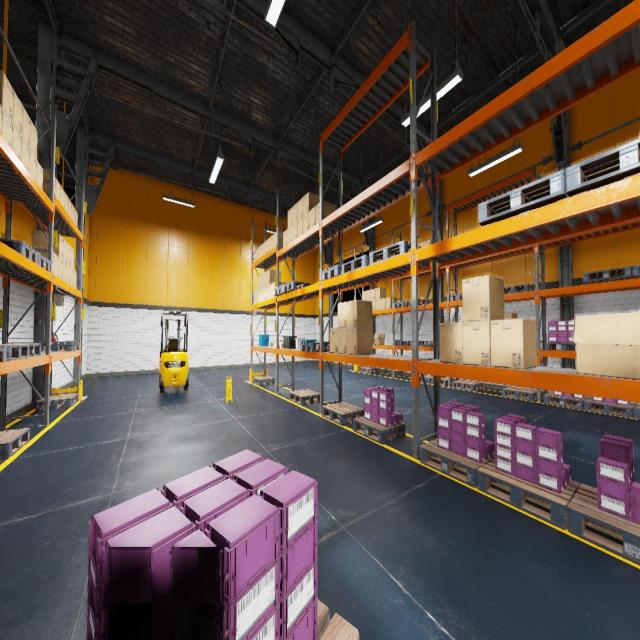box: (572, 312, 640, 380), (490, 318, 537, 369), (462, 274, 504, 322), (462, 320, 491, 366), (439, 322, 463, 364), (32, 229, 64, 260), (0, 70, 13, 122), (347, 300, 372, 327), (347, 327, 372, 354), (30, 246, 54, 274), (316, 200, 336, 224), (1, 108, 12, 149), (13, 90, 22, 136), (303, 191, 319, 216), (42, 168, 56, 194), (22, 105, 30, 149), (12, 124, 21, 160), (21, 138, 30, 172), (30, 120, 37, 159), (29, 150, 37, 181), (266, 269, 281, 285), (338, 328, 347, 353), (274, 281, 288, 297), (338, 302, 346, 328), (36, 160, 43, 189), (330, 328, 338, 353), (385, 297, 397, 309), (309, 206, 315, 229), (303, 211, 309, 233), (297, 198, 303, 220), (375, 287, 386, 299), (274, 231, 282, 247), (297, 216, 303, 237), (54, 253, 59, 277), (292, 202, 297, 225), (55, 179, 60, 201), (374, 334, 385, 344), (64, 239, 68, 263), (292, 221, 297, 240), (287, 225, 292, 244), (59, 257, 63, 280), (67, 243, 71, 266), (504, 312, 517, 319), (60, 186, 64, 208), (62, 261, 66, 282), (64, 194, 68, 214), (288, 208, 292, 228), (70, 267, 74, 286), (283, 229, 287, 247), (380, 298, 386, 310), (74, 210, 78, 227), (71, 246, 74, 268), (266, 284, 270, 300), (0, 104, 2, 134), (67, 264, 70, 284), (266, 237, 270, 252), (68, 199, 71, 218), (260, 243, 264, 257), (424, 239, 432, 246), (375, 299, 380, 310), (270, 234, 273, 250), (263, 271, 266, 287), (371, 288, 375, 300), (270, 283, 273, 298), (260, 273, 263, 288), (257, 275, 260, 290), (263, 286, 266, 300), (260, 288, 263, 302), (371, 300, 375, 310), (366, 290, 370, 300), (362, 290, 366, 300), (257, 289, 260, 302), (72, 204, 74, 223), (74, 270, 76, 288), (274, 342, 281, 347), (268, 342, 274, 347), (264, 240, 266, 254), (258, 245, 260, 259), (255, 248, 257, 261), (255, 290, 257, 303), (418, 242, 423, 247), (275, 339, 283, 342), (279, 343, 284, 347), (274, 342, 275, 346)
forklift: (159, 311, 188, 392)
pallets: (477, 458, 580, 529), (567, 484, 640, 565), (478, 170, 572, 226), (565, 138, 640, 196), (420, 438, 494, 488), (318, 599, 360, 640), (353, 415, 405, 444), (369, 240, 421, 264), (584, 398, 635, 418), (0, 238, 38, 264), (322, 402, 364, 425), (0, 428, 30, 460), (583, 266, 634, 284), (543, 392, 588, 410), (35, 393, 79, 411), (502, 386, 537, 402), (0, 343, 41, 356), (342, 255, 369, 274), (0, 344, 30, 360), (289, 390, 319, 406), (322, 264, 350, 280), (283, 281, 313, 293), (42, 342, 80, 351), (452, 380, 482, 391), (300, 342, 329, 352), (504, 284, 533, 294), (545, 342, 576, 351), (38, 252, 50, 272), (428, 377, 454, 386), (410, 374, 433, 383), (252, 376, 274, 385), (405, 299, 428, 306), (274, 285, 286, 296), (410, 340, 432, 346), (392, 301, 409, 308), (0, 346, 7, 362), (394, 340, 412, 346), (358, 367, 376, 373), (632, 265, 640, 278), (634, 404, 640, 419), (450, 293, 462, 300), (428, 341, 440, 346), (373, 340, 374, 344)
